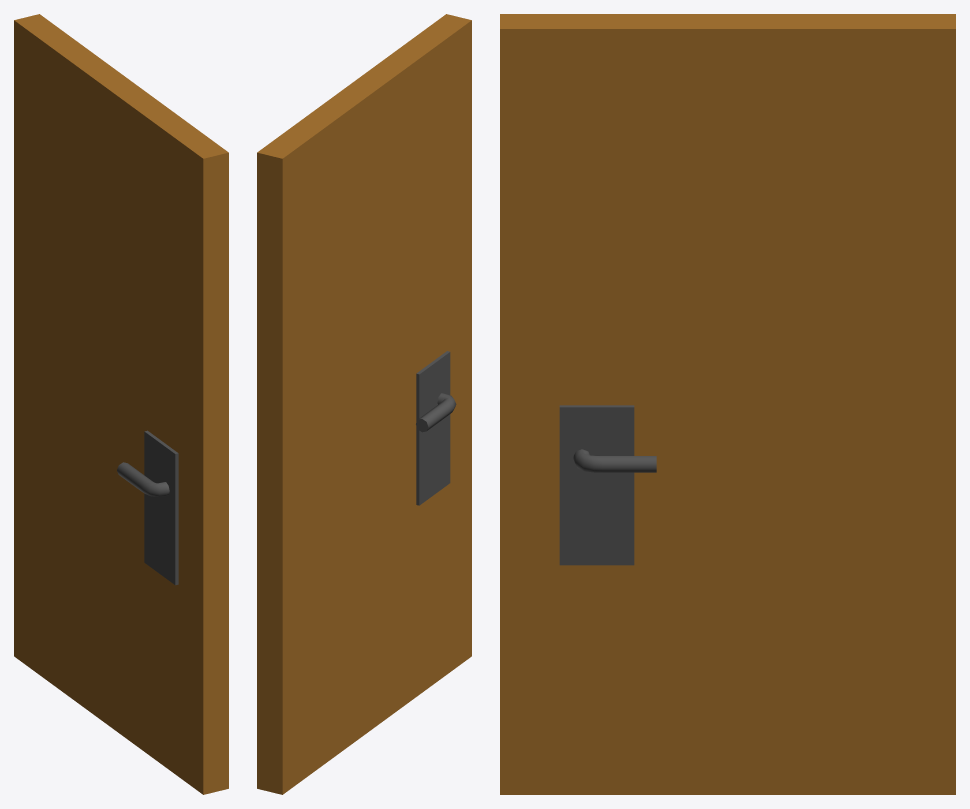
File: OfficeDoor 1.fbx
The picture shows the model from 3 angles, left to right: view 1: azimuth 30°, elevation 25°; view 2: azimuth 150°, elevation 25°; view 3: azimuth 270°, elevation 25°; orthographic projection. The views are drawn at different scales.
Visible parts, largest first — view 1: Door1; view 2: Door1; view 3: Door1.
Part boxes in pixels (bbox=[...]): Door1: bbox=[14, 14, 228, 794]; Door1: bbox=[257, 14, 471, 794]; Door1: bbox=[500, 14, 955, 794].
Size of the model in its own units: 0.2128 by 1.88 by 1.02.
